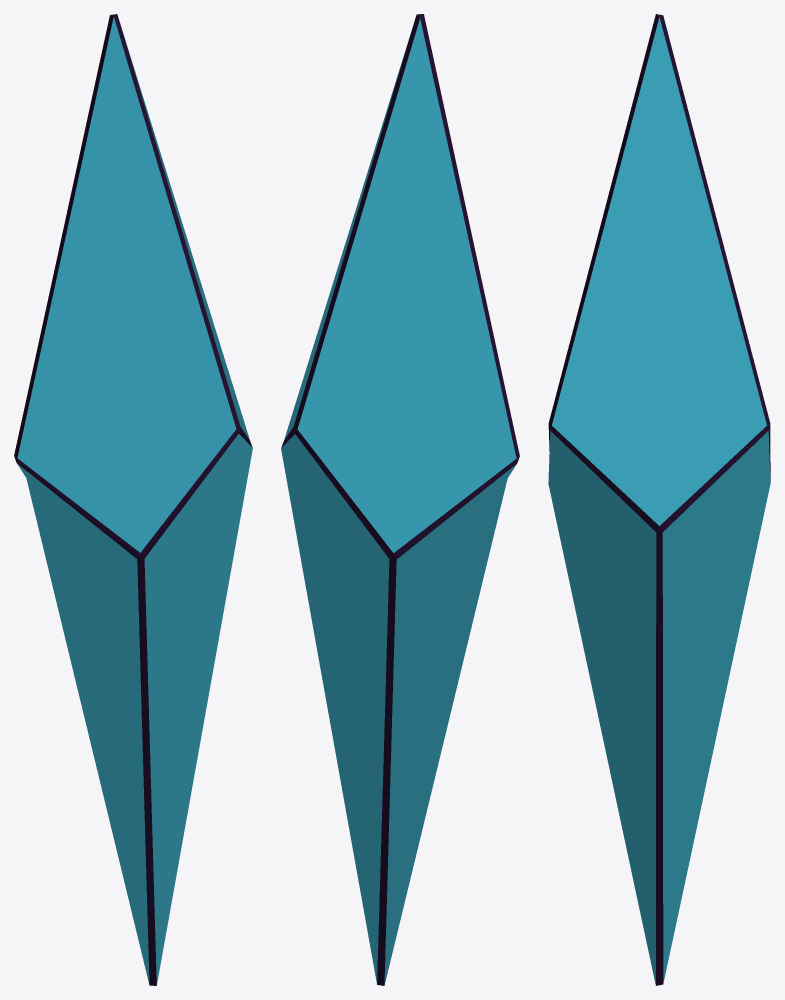
The model's file is obelisk_export.fbx.
3 renders of one model, left to right at view 1: azimuth 30°, elevation 25°; view 2: azimuth 150°, elevation 25°; view 3: azimuth 270°, elevation 25°, orthographic. The views are drawn at different scales.
Parts seen in each view (by area): view 1: pCube1; view 2: pCube1; view 3: pCube1.
Part boxes in pixels (left/top/right/bottom): pCube1: left=14, top=14, right=252, bottom=985; pCube1: left=281, top=14, right=519, bottom=985; pCube1: left=548, top=14, right=770, bottom=985.
Bounding box in the file's own units: 1.67 × 6.62 × 1.4.
